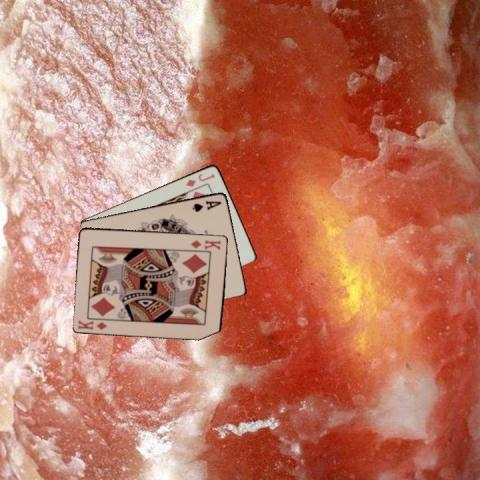As: (189, 198, 223, 214)
Jd: (183, 170, 216, 188)
Kd: (188, 236, 222, 251), (75, 317, 109, 331)
